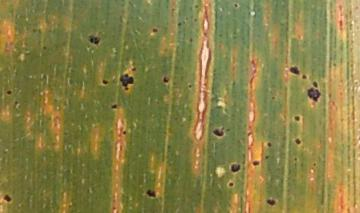tarspot: (304, 86, 322, 104), (118, 73, 135, 91), (210, 126, 226, 139), (288, 64, 301, 77), (229, 162, 241, 174), (88, 35, 101, 46), (145, 187, 157, 198), (2, 193, 13, 204), (265, 197, 276, 208), (251, 159, 260, 168), (162, 74, 170, 84), (294, 137, 302, 146), (170, 6, 176, 18), (101, 78, 109, 86), (151, 26, 159, 34), (293, 114, 301, 122), (232, 1, 240, 9), (310, 80, 319, 87), (263, 153, 270, 161), (301, 72, 307, 81), (5, 89, 12, 96), (130, 66, 137, 73), (266, 141, 273, 148), (227, 180, 234, 187), (187, 36, 194, 43), (187, 82, 193, 90), (311, 160, 317, 168), (121, 129, 128, 135), (110, 103, 117, 109), (270, 95, 277, 101), (41, 44, 47, 50), (192, 17, 198, 23), (292, 155, 298, 161), (193, 4, 200, 9), (176, 21, 181, 26)
